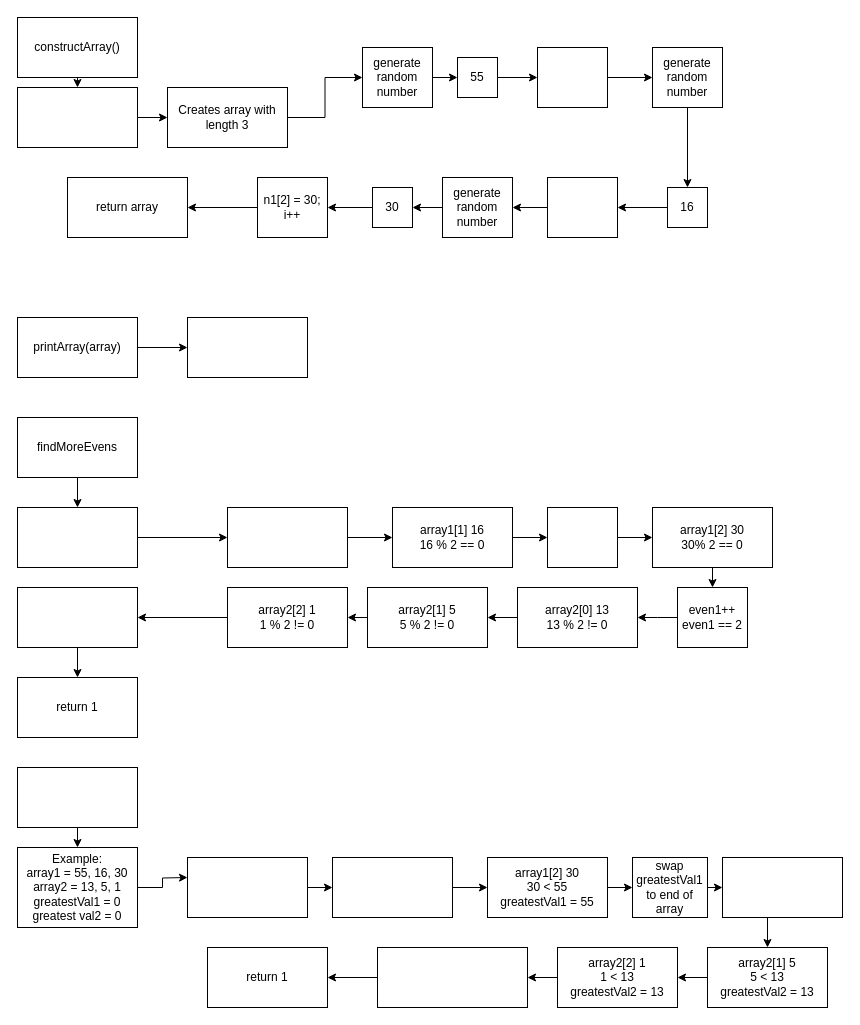
This 860x1025 diagram has some shape labels left out. The shapes that lost their labels are listed below. From the top down, each one's centre as x and y in pixels, then its label:
At point (572, 77): "n1[0] = 55; i++".
At point (77, 117): "Example: N = 3".
At point (582, 207): "n1[1] = 16; i++".
At point (247, 347): "prints array".
At point (77, 537): "Example: array1 = 55, 16, 30 array2 = 13, 5, 1".
At point (287, 537): "array1[0] 55 55 % 2 != 0".
At point (582, 537): "even1++ even1 == 1".
At point (77, 617): "even1 > even2".
At point (77, 797): "findGreatest".
At point (247, 887): "array1[0] 55 55 > 0 greatestVal1 = 55".
At point (392, 887): "array1[1] 16 16 < 55 greatestVal1 = 55".
At point (782, 887): "array2[0] 13 13 > 0 greatestVal2 = 13".
At point (452, 977): "greatestVal1 = 55 greatestVal2 = 13 greatestVal1 > greatestVal2".
